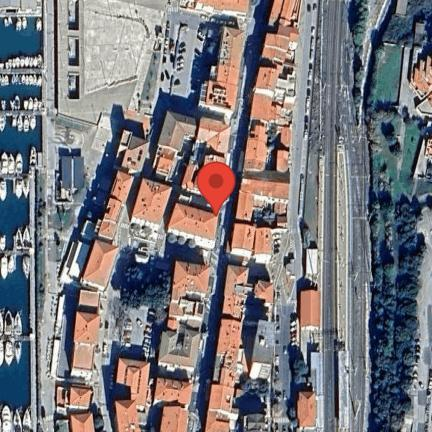area_open: (43, 0, 170, 134), (162, 22, 204, 111), (116, 311, 154, 361)
built: (81, 136, 152, 308), (158, 260, 215, 365), (204, 322, 246, 432), (180, 117, 234, 196), (201, 29, 247, 117), (153, 111, 196, 184), (250, 68, 297, 128), (238, 178, 292, 224), (169, 202, 220, 248), (117, 362, 150, 432), (133, 177, 173, 226), (407, 46, 432, 123), (230, 223, 272, 265), (221, 265, 251, 320), (72, 310, 99, 370), (58, 150, 85, 202), (262, 28, 298, 67), (245, 121, 270, 172), (185, 0, 251, 18), (300, 289, 323, 335), (155, 377, 194, 403), (160, 403, 193, 432), (274, 128, 292, 176), (294, 392, 317, 428), (271, 0, 303, 25), (68, 408, 99, 432), (255, 280, 277, 304), (68, 386, 91, 408)
vegetation_high: (371, 205, 428, 432), (115, 262, 167, 306), (351, 0, 368, 124)
vegetation_low: (372, 126, 418, 199), (365, 43, 407, 108)
water: (0, 340, 34, 410), (0, 271, 29, 339), (0, 30, 43, 60), (1, 197, 29, 237), (2, 129, 44, 149), (2, 86, 44, 100)
